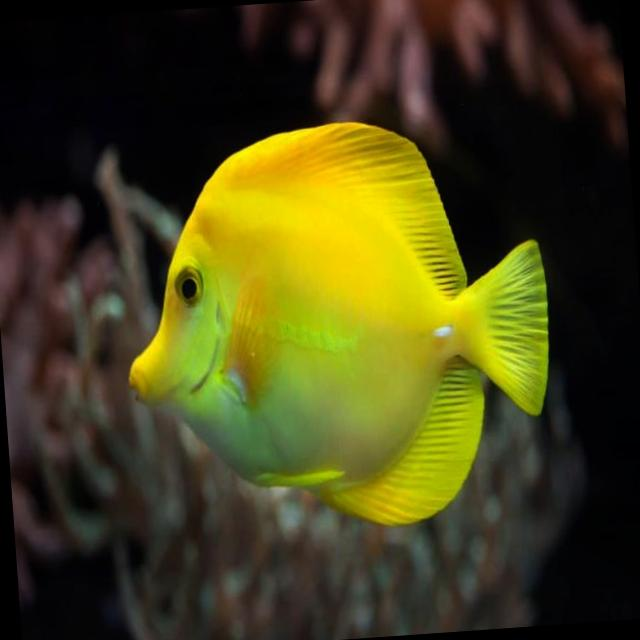TangFish: (105, 102, 564, 543)
